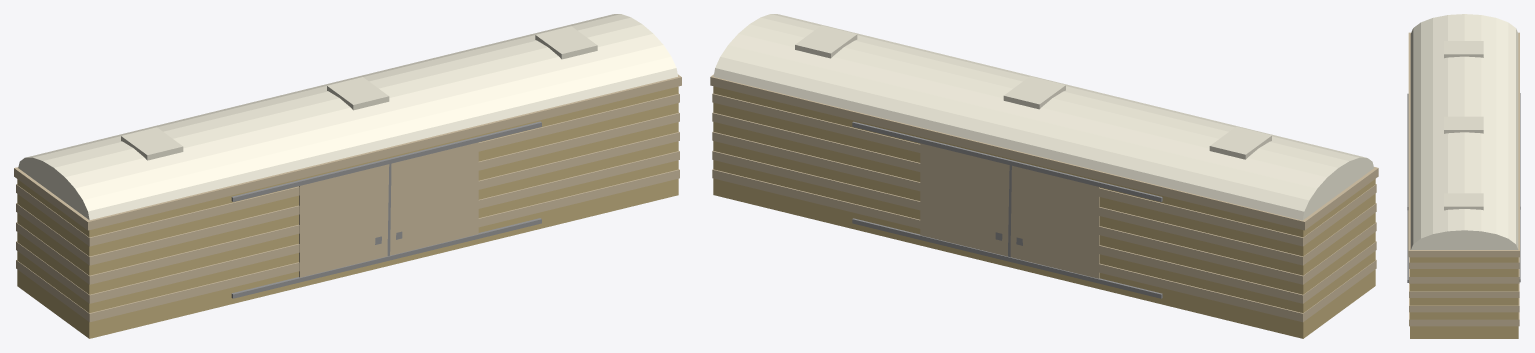
File: props38.fbx
3 renders of one model, left to right at view 1: azimuth 30°, elevation 25°; view 2: azimuth 150°, elevation 25°; view 3: azimuth 270°, elevation 25°, orthographic. The views are drawn at different scales.
Parts seen in each view (by area): view 1: Cube; view 2: Cube; view 3: Cube.
Part boxes in pixels (x1,y1,x2,y2): Cube: (14,14,681,338); Cube: (710,14,1378,338); Cube: (1407,14,1520,338).
Size of the model in its own units: 1540 by 365 by 337.
